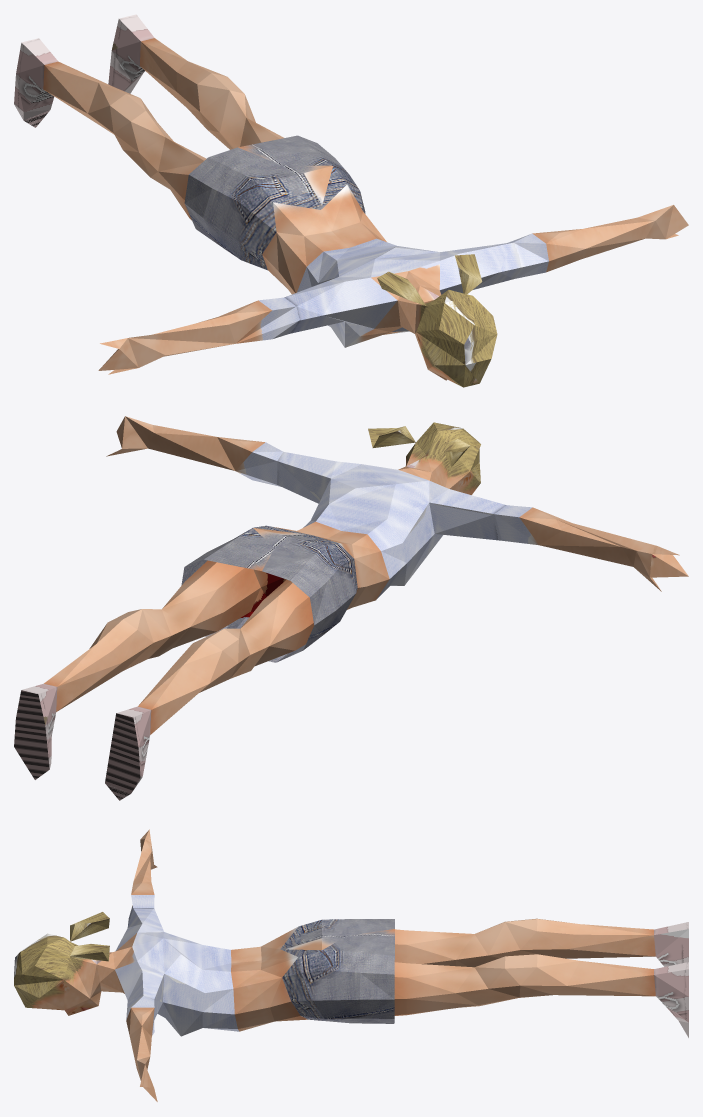
Rendered from tomdrinwoman5_3klow_wtf.obj.
3 views of the same model, one above another, from view 1: azimuth 30°, elevation 25°; view 2: azimuth 150°, elevation 25°; view 3: azimuth 270°, elevation 25° (orthographic). The views are drawn at different scales.
Parts seen in each view (by area): view 1: group1; view 2: group1; view 3: group1.
Part boxes in pixels (x1,y1,x2,y2): group1: (14,14,688,387); group1: (14,416,688,800); group1: (14,829,688,1101).
Size of the model in its own units: 562 by 101 by 660.
